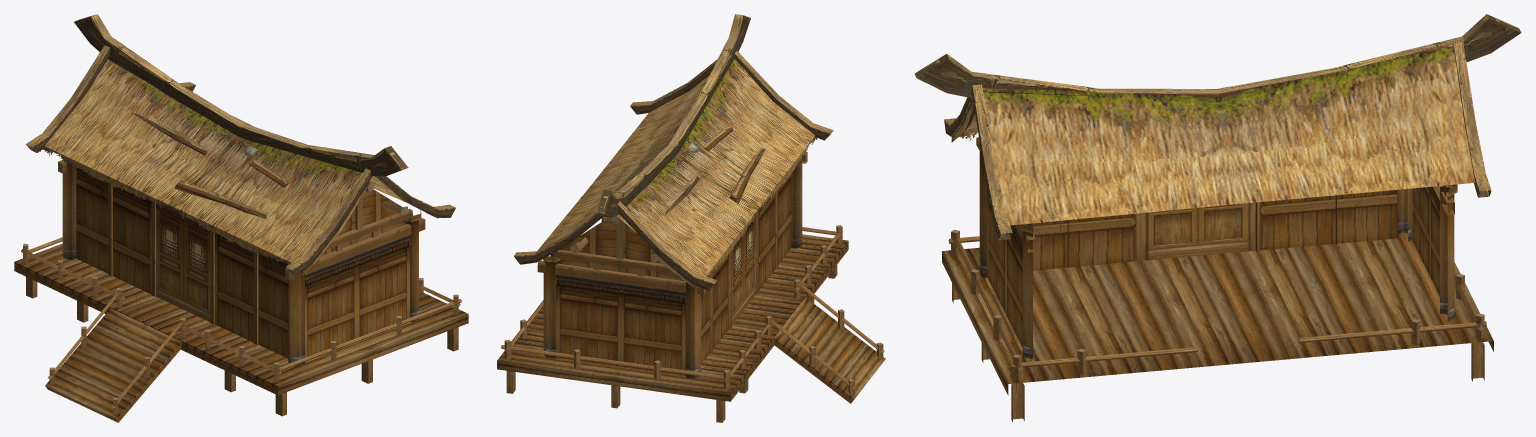
Rendered from 1004_Item_caofang_1.FBX.
The picture shows the model from 3 angles, left to right: view 1: azimuth 30°, elevation 25°; view 2: azimuth 150°, elevation 25°; view 3: azimuth 270°, elevation 25°; orthographic projection. The views are drawn at different scales.
Parts seen in each view (by area): view 1: 1004_Item_caofang_1; view 2: 1004_Item_caofang_1; view 3: 1004_Item_caofang_1.
Boxes of the visible parts, x1,y1,x2,y2 form: 1004_Item_caofang_1: (14, 14, 468, 422); 1004_Item_caofang_1: (497, 14, 885, 422); 1004_Item_caofang_1: (914, 14, 1521, 422).
Bounding box in the file's own units: 980 × 1219 × 747.
